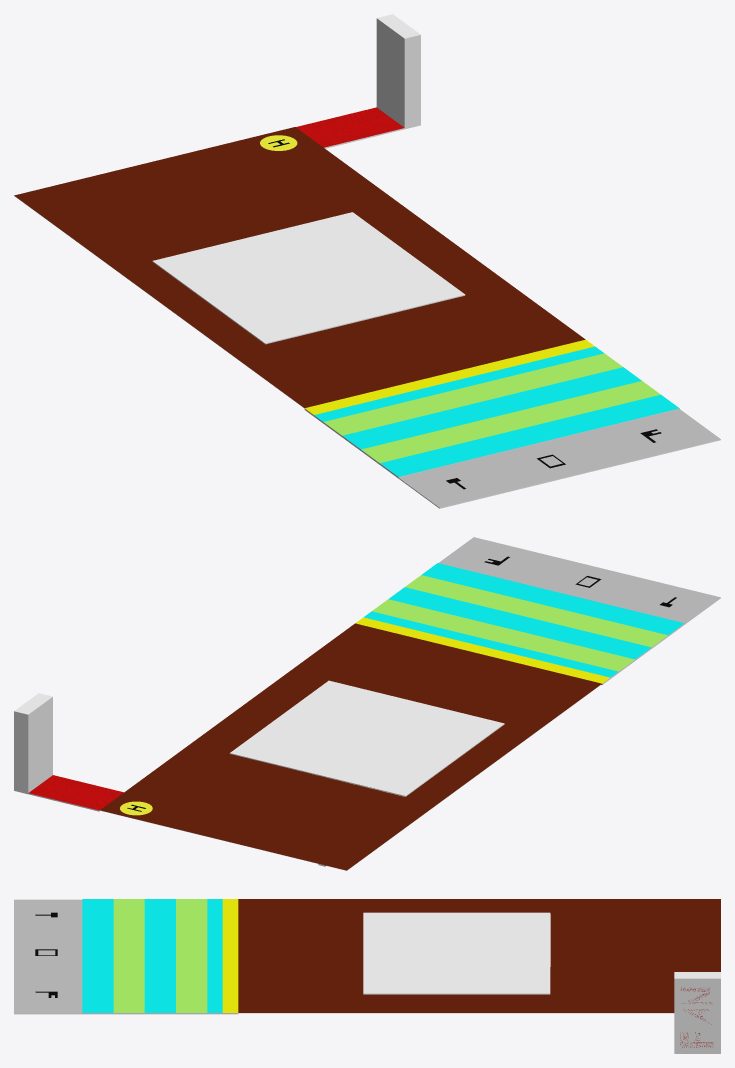
File: cen_ind_missao4_clear.dae
3 renders of one model, top to bottom at view 1: azimuth 30°, elevation 25°; view 2: azimuth 150°, elevation 25°; view 3: azimuth 270°, elevation 25°, orthographic. The views are drawn at different scales.
Visible parts, largest first — view 1: SketchUp (×12); view 2: SketchUp (×12); view 3: SketchUp (×13).
Part boxes in pixels (x1,y1,x2,y2): SketchUp (×12): [14, 14, 720, 508]; SketchUp (×12): [14, 537, 720, 870]; SketchUp (×13): [14, 899, 720, 1053].
Bounding box in the file's own units: 458 × 892 × 105.
